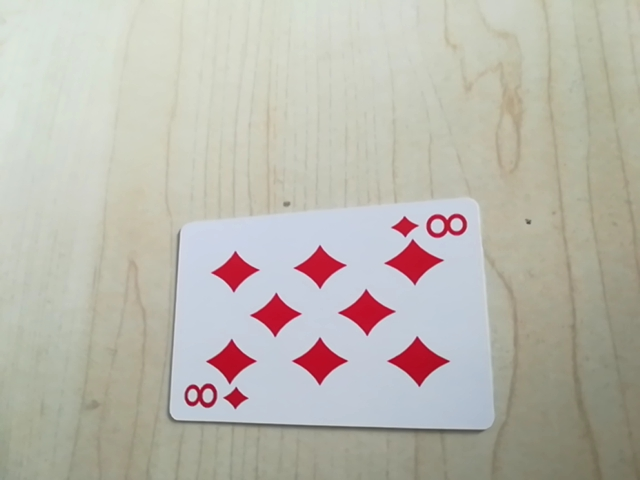fk 8: (388, 206, 473, 245), (178, 381, 252, 417)
